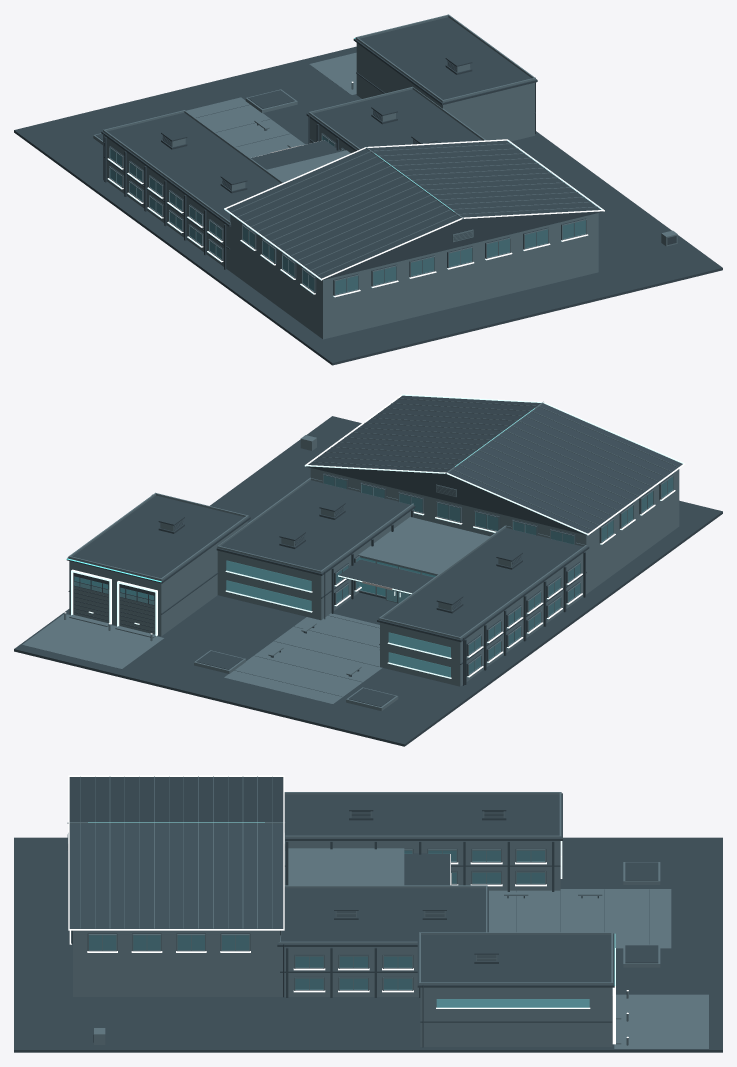
Rendered from school_emergency_services.glb.
The picture shows the model from 3 angles, top to bottom: view 1: azimuth 30°, elevation 25°; view 2: azimuth 150°, elevation 25°; view 3: azimuth 270°, elevation 25°; orthographic projection. The views are drawn at different scales.
Parts seen in each view (by area): view 1: school_emergency_services_graphite, school_emergency_services_graphite_light, school_emergency_services_glass, school_emergency_services_white; view 2: school_emergency_services_graphite, school_emergency_services_graphite_light, school_emergency_services_glass, school_emergency_services_white; view 3: school_emergency_services_graphite, school_emergency_services_graphite_light, school_emergency_services_glass, school_emergency_services_white.
Part boxes in pixels (x1,y1,x2,y2): school_emergency_services_graphite: (14,17,722,365); school_emergency_services_graphite_light: (93,14,677,339); school_emergency_services_glass: (110,136,585,293); school_emergency_services_white: (107,81,604,297); school_emergency_services_graphite: (14,395,722,746); school_emergency_services_graphite_light: (22,398,679,711); school_emergency_services_glass: (74,476,672,677); school_emergency_services_white: (64,394,685,678); school_emergency_services_graphite: (14,777,722,1052); school_emergency_services_graphite_light: (67,776,708,1048); school_emergency_services_glass: (89,851,589,1007); school_emergency_services_white: (68,775,628,1044).
Bounding box in the file's own units: 68 × 15.28 × 96.
